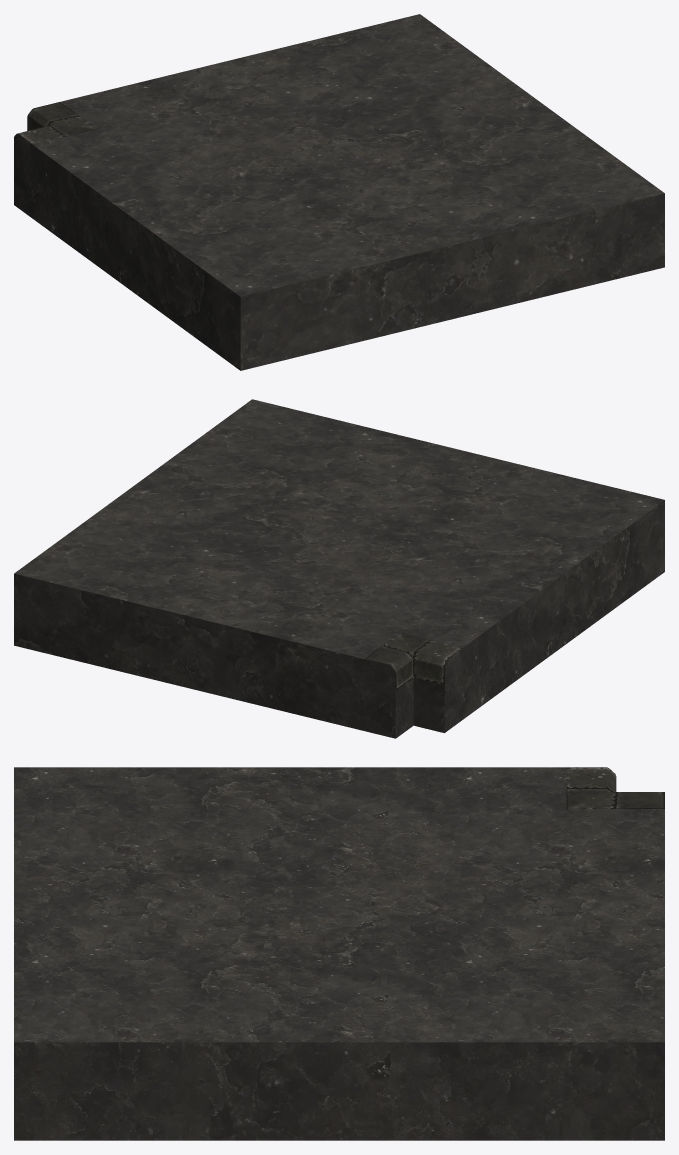
3 renders of one model, top to bottom at view 1: azimuth 30°, elevation 25°; view 2: azimuth 150°, elevation 25°; view 3: azimuth 270°, elevation 25°, orthographic. The views are drawn at different scales.
Parts seen in each view (by area): view 1: SM_Downdun_Vaulted_Floor_12x12_02_LOD0; view 2: SM_Downdun_Vaulted_Floor_12x12_02_LOD0; view 3: SM_Downdun_Vaulted_Floor_12x12_02_LOD0.
Boxes of the visible parts, <box> form: SM_Downdun_Vaulted_Floor_12x12_02_LOD0: <box>14,14,664,370</box>; SM_Downdun_Vaulted_Floor_12x12_02_LOD0: <box>14,399,664,738</box>; SM_Downdun_Vaulted_Floor_12x12_02_LOD0: <box>14,767,664,1140</box>.
Bounding box in the file's own units: 12 × 2 × 12.
Materials: 2 (2 with a texture image).
